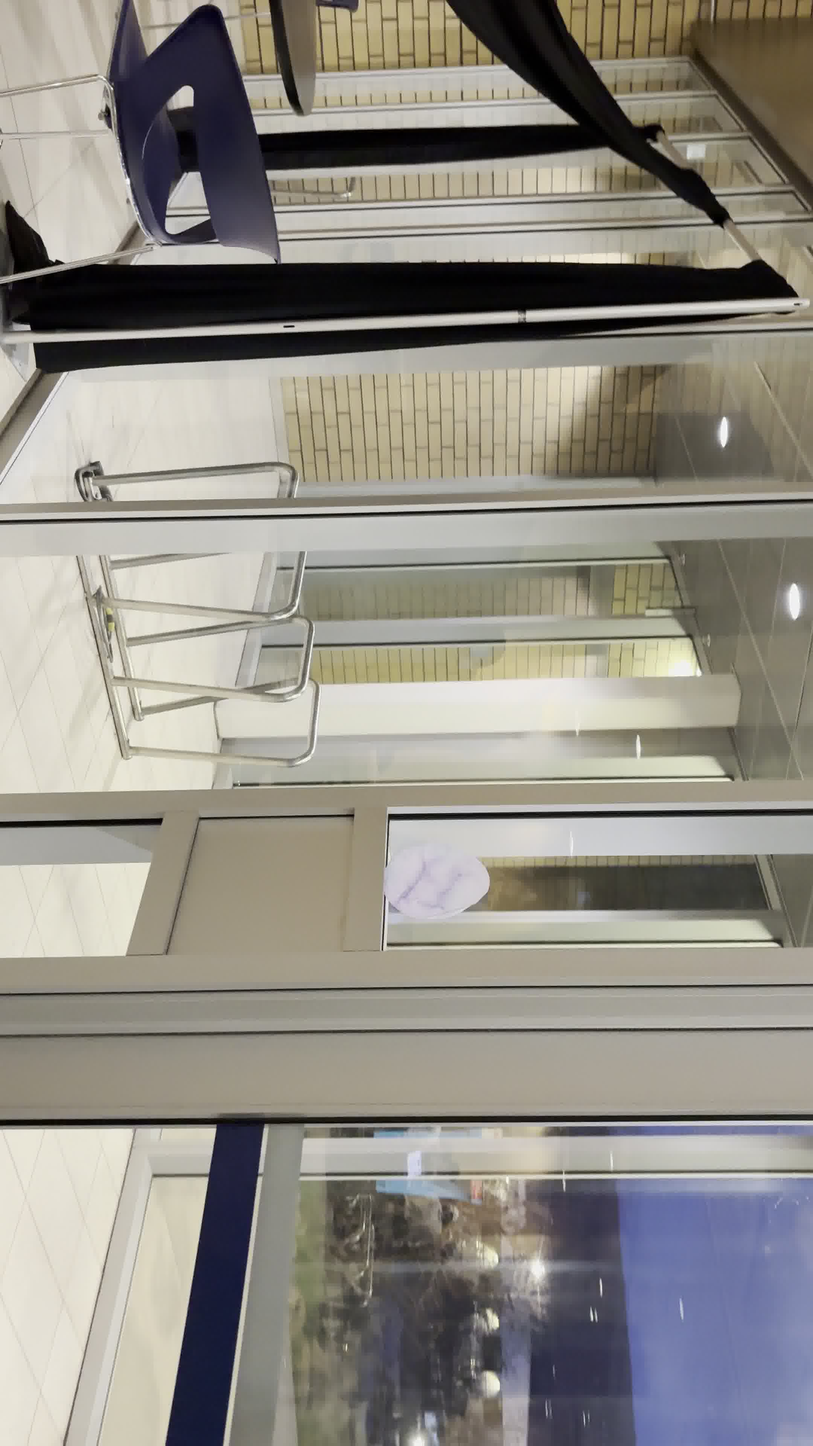Target: (381, 838, 492, 921)
